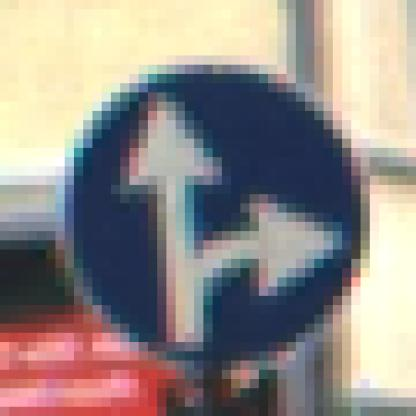Straight or Right: (47, 47, 371, 371)
